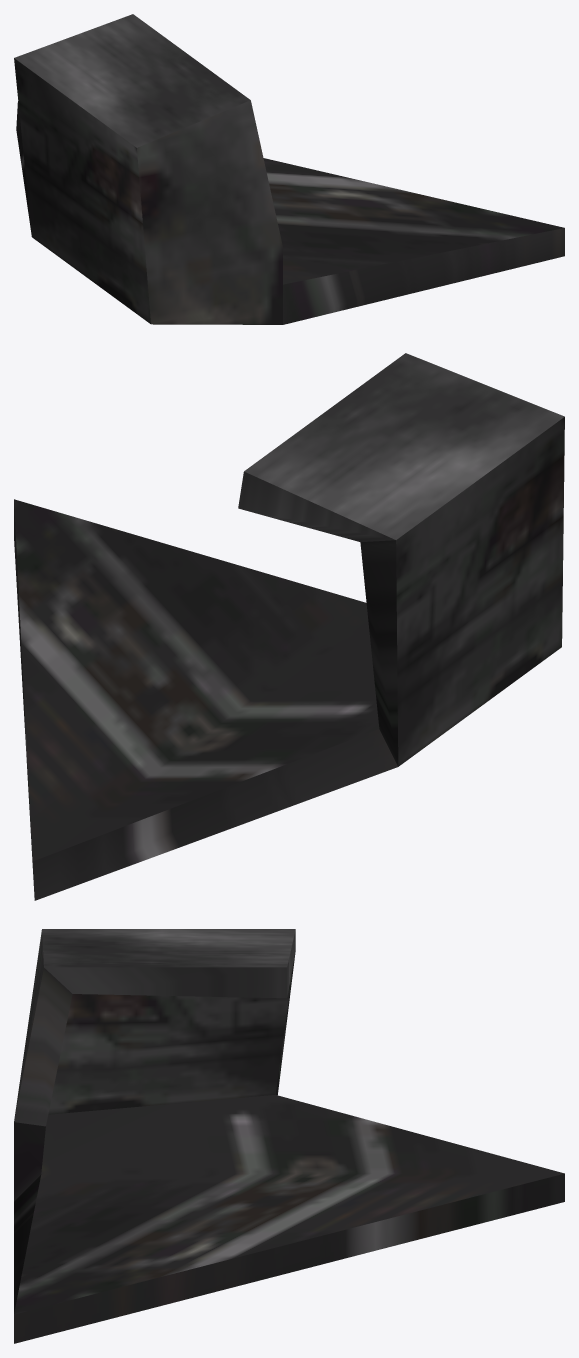
File: Shared - Ground Vehicles - CV Generic x 14 - CVGeneric_x14.glb
3 renders of one model, top to bottom at view 1: azimuth 30°, elevation 25°; view 2: azimuth 150°, elevation 25°; view 3: azimuth 270°, elevation 25°, orthographic. The views are drawn at different scales.
Parts seen in each view (by area): view 1: CVGENERIC_X14; view 2: CVGENERIC_X14; view 3: CVGENERIC_X14.
Part boxes in pixels (x1,y1,x2,y2): CVGENERIC_X14: [14, 14, 564, 324]; CVGENERIC_X14: [14, 353, 564, 900]; CVGENERIC_X14: [14, 929, 564, 1343].
Bounding box in the file's own units: 7.42 × 3.74 × 8.27.
1 material, 1 textured.
